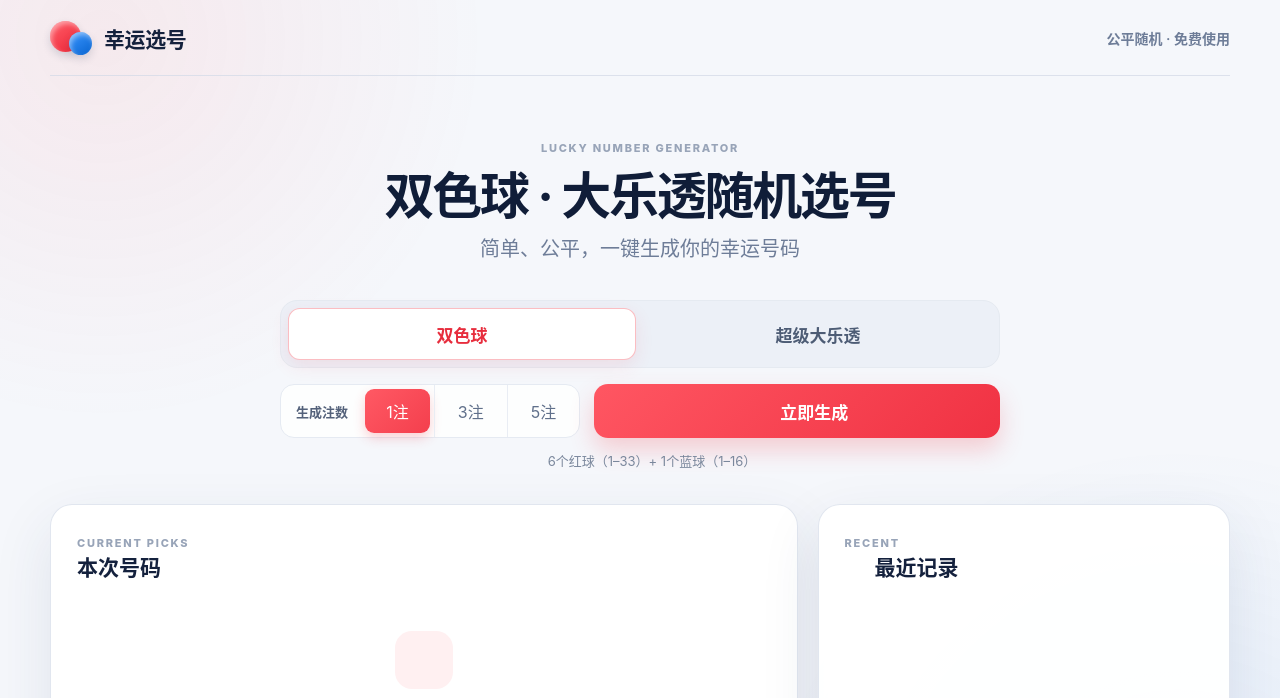
it: App › copies the current batch and reports success
This screenshot has width=1280, height=698.
What coordinates should you click on to do the following:
click the button with class "generate-button"
I would click on:
 (797, 411)
Its box is [594, 384, 1000, 438].
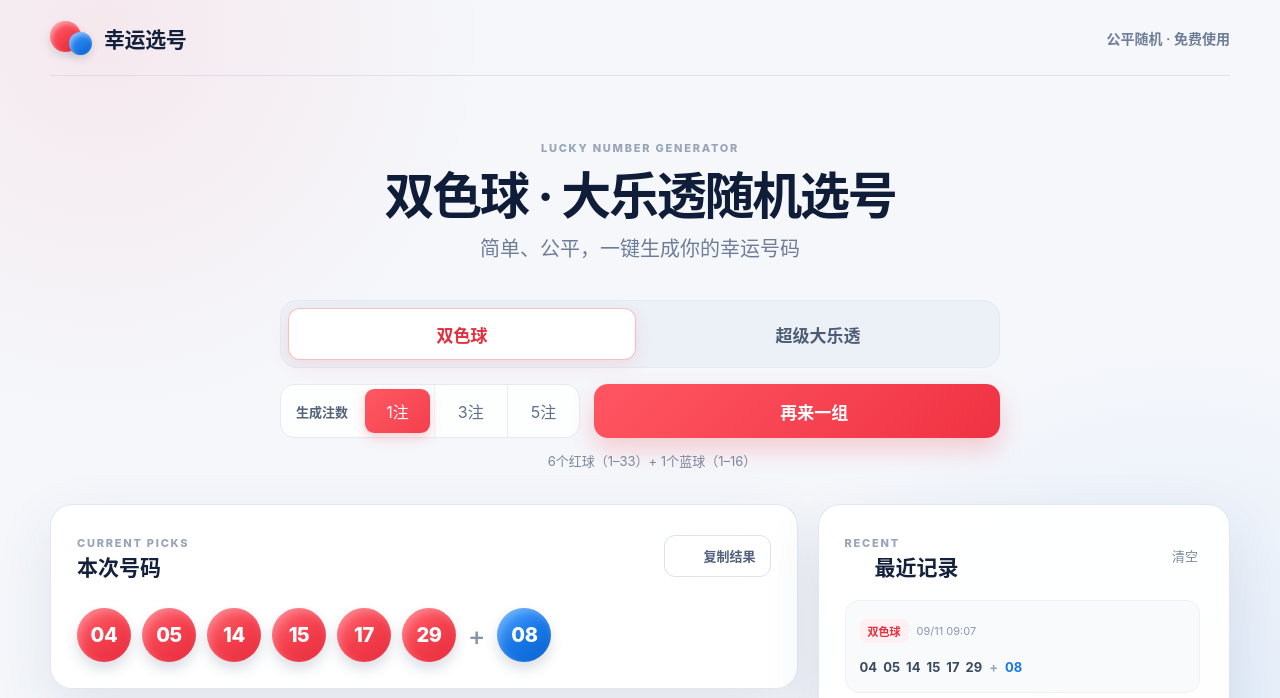
What coordinates should you click on to do the following:
click the button with class "secondary-button"
I would click on:
 (717, 556)
Its box is [664, 535, 770, 577].
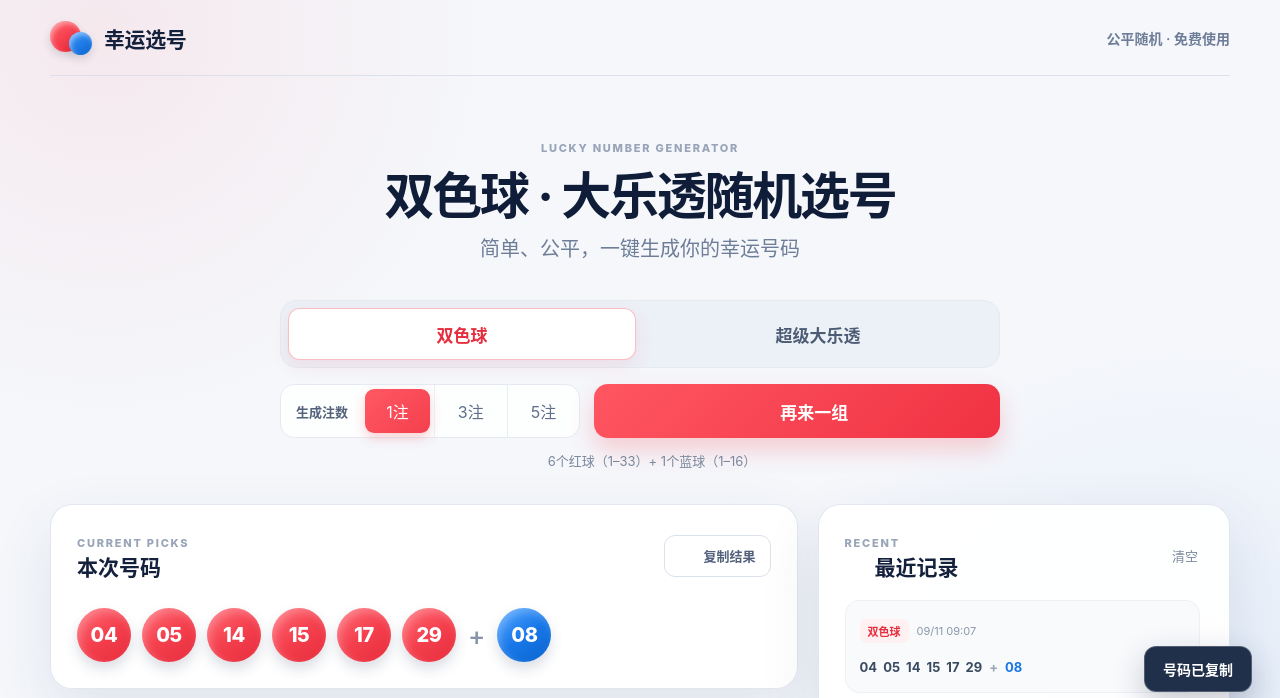
Now the text "号码已复制" is shown, box [1144, 646, 1252, 692]
